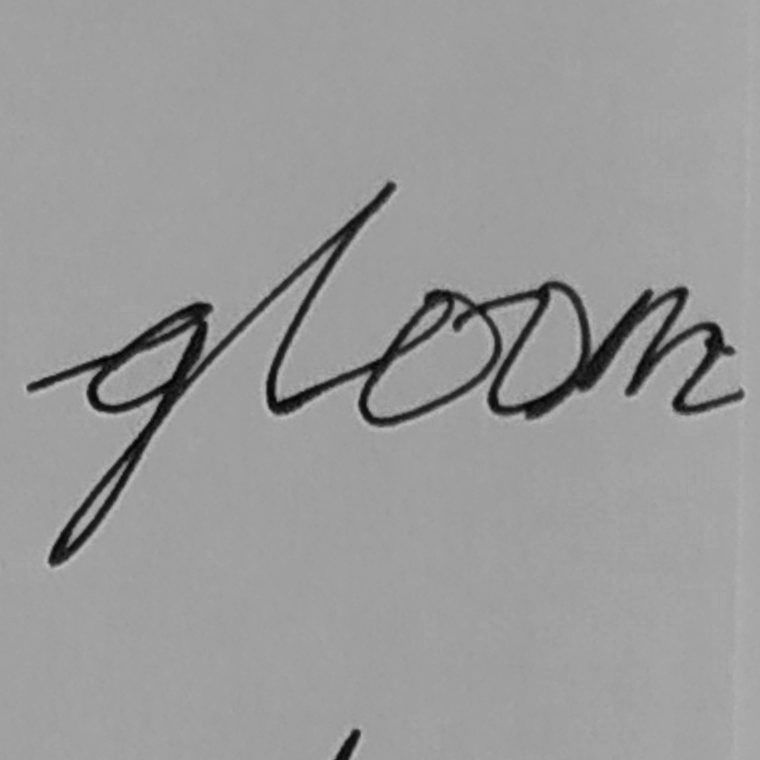g: (44, 295, 218, 572)
l: (260, 174, 403, 418)
m: (573, 280, 749, 418)
o: (356, 286, 505, 428), (485, 279, 594, 420)
